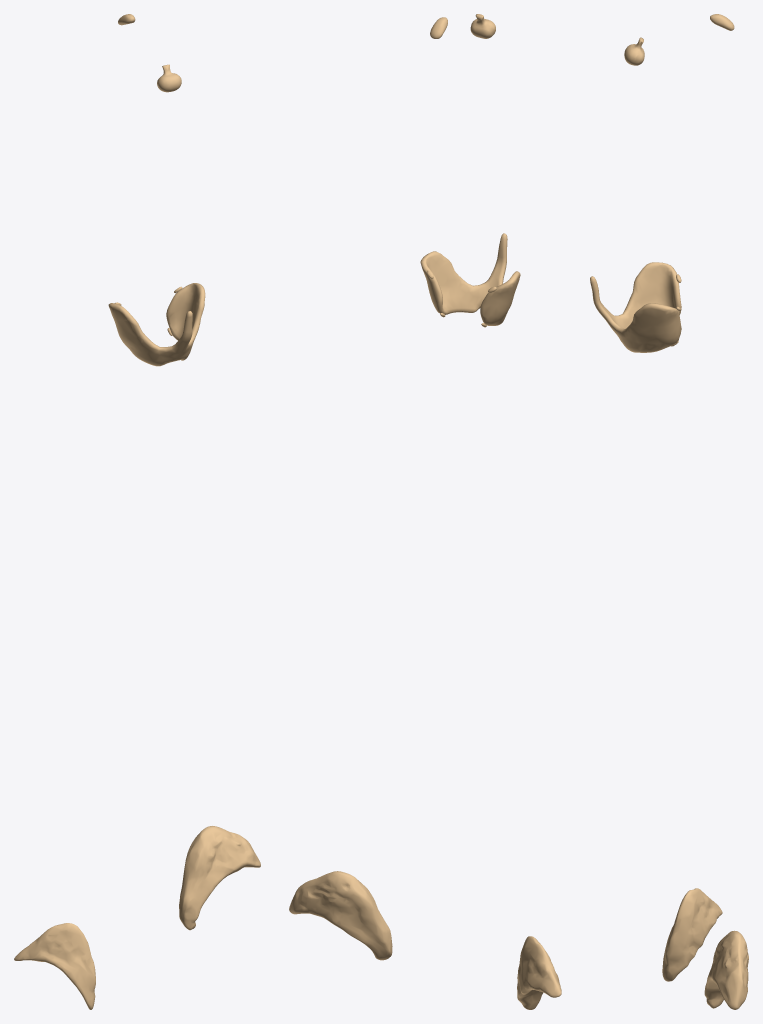
The model's file is endocrine.glb.
3 views of the same model, side by side, from view 1: azimuth 30°, elevation 25°; view 2: azimuth 150°, elevation 25°; view 3: azimuth 270°, elevation 25° (orthographic). The views are drawn at different scales.
Visible parts, largest first — view 1: END.suprarenal_gland.L, END.thyroid_gland.C, END.suprarenal_gland.R; view 2: END.suprarenal_gland.L, END.thyroid_gland.C, END.suprarenal_gland.R; view 3: END.thyroid_gland.C, END.suprarenal_gland.R, END.suprarenal_gland.L.
Boxes of the visible parts, box(x1,y1,x2,y2) form: END.suprarenal_gland.L: box(179, 826, 260, 930); END.thyroid_gland.C: box(108, 283, 205, 366); END.suprarenal_gland.R: box(14, 923, 95, 1009); END.suprarenal_gland.L: box(289, 871, 392, 960); END.thyroid_gland.C: box(420, 233, 520, 325); END.suprarenal_gland.R: box(517, 936, 561, 1009); END.thyroid_gland.C: box(590, 262, 681, 352); END.suprarenal_gland.R: box(662, 888, 722, 981); END.suprarenal_gland.L: box(704, 930, 748, 1009).
Bounding box in the file's own units: 0.138 × 0.4994 × 0.072.
